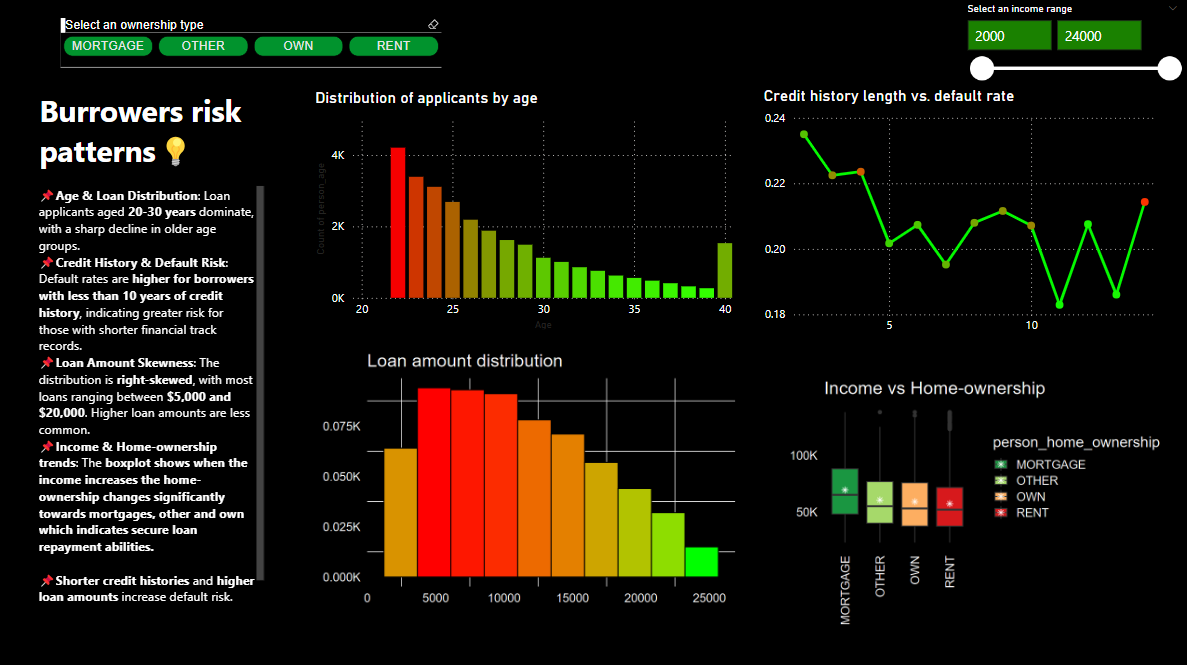

What the dashboard file says about the page in this screenshot:
{"tool":"powerbi","page":{"name":"Burrowers Risk Patterns","canvas":[1280,720],"ordinal":1},"visuals":[{"type":"clusteredColumnChart","title":"Distribution of applicants by age","fields":{"Y":["CountNonNull(credit_risk_dataset_cleaned.person_age)"],"Category":["credit_risk_dataset_cleaned.person_age"]},"box":[333.9,96.4,458.9,264.3],"z":0},{"type":"scriptVisual","fields":{"Values":["credit_risk_dataset_cleaned.loan_amnt"]},"box":[333.9,369.6,469.6,296.4],"z":1000},{"type":"lineChart","title":"Credit history length vs. default rate","fields":{"Category":["credit_risk_dataset_cleaned.cb_person_cred_hist_length"],"Y":["credit_risk_dataset_cleaned.Default_Rate"]},"box":[816.3,94.7,429.5,274.7],"z":2000},{"type":"ChicletSlicer1448559807354","fields":{"Category":["credit_risk_dataset_cleaned.person_home_ownership"]},"box":[59.1,16.7,419.4,63.6],"z":3000},{"type":"slicer","fields":{"Values":["credit_risk_dataset_cleaned.loan_amnt"]},"box":[1028.1,0,251.4,95.4],"z":4000},{"type":"textbox","box":[37.5,92.9,264.3,103.6],"z":5000},{"type":"textbox","box":[37.5,196.4,251.8,496.4],"z":6000},{"type":"scriptVisual","fields":{"Values":["credit_risk_dataset_cleaned.person_income","credit_risk_dataset_cleaned.person_home_ownership"]},"box":[816.1,398.2,451.8,289.3],"z":7000}]}

Visuals, with their boxes in screenshot pixels (x1, y1, x2, y2), scaled from the page's 1280x720 canvas onto the 1187x665 screenshot:
"Distribution of applicants by age" clusteredColumnChart: x1=310 y1=89 x2=735 y2=333
scriptVisual - credit_risk_dataset_cleaned.loan_amnt: x1=310 y1=341 x2=745 y2=615
"Credit history length vs. default rate" lineChart: x1=757 y1=87 x2=1155 y2=341
ChicletSlicer1448559807354 - credit_risk_dataset_cleaned.person_home_ownership: x1=55 y1=15 x2=444 y2=74
slicer - credit_risk_dataset_cleaned.loan_amnt: x1=953 y1=0 x2=1186 y2=88
textbox: x1=35 y1=86 x2=280 y2=181
textbox: x1=35 y1=181 x2=268 y2=640
scriptVisual - credit_risk_dataset_cleaned.person_income x credit_risk_dataset_cleaned.person_home_ownership: x1=757 y1=368 x2=1176 y2=635
